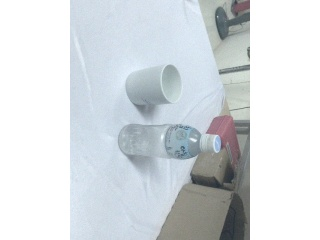bottle: (118, 123, 221, 160)
box: (149, 184, 246, 240)
cup: (125, 64, 183, 106)
